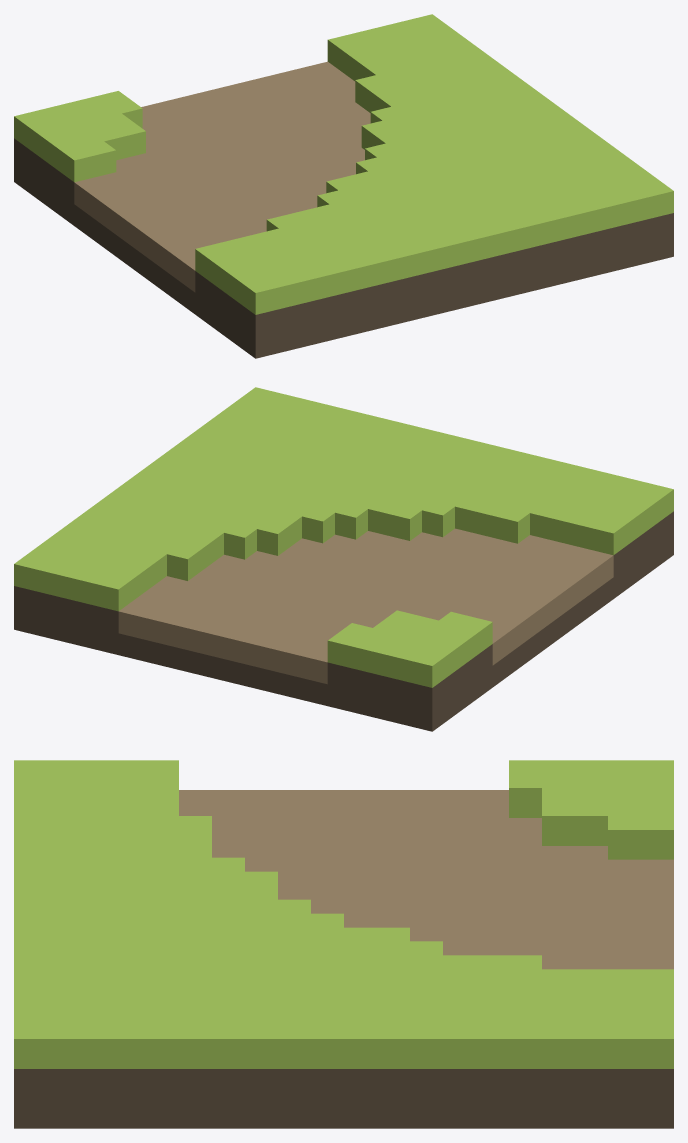
The model's file is SM_Mod_Path_Corner.fbx.
3 views of the same model, one above another, from view 1: azimuth 30°, elevation 25°; view 2: azimuth 150°, elevation 25°; view 3: azimuth 270°, elevation 25° (orthographic). The views are drawn at different scales.
Parts seen in each view (by area): view 1: SM_Mod_Path_Corner; view 2: SM_Mod_Path_Corner; view 3: SM_Mod_Path_Corner.
Part boxes in pixels (<box>): SM_Mod_Path_Corner: <box>14,14,673,358</box>; SM_Mod_Path_Corner: <box>14,387,673,731</box>; SM_Mod_Path_Corner: <box>14,760,673,1128</box>.
Size of the model in its own units: 2 by 0.3 by 2.
Materials: 1 (1 with a texture image).
